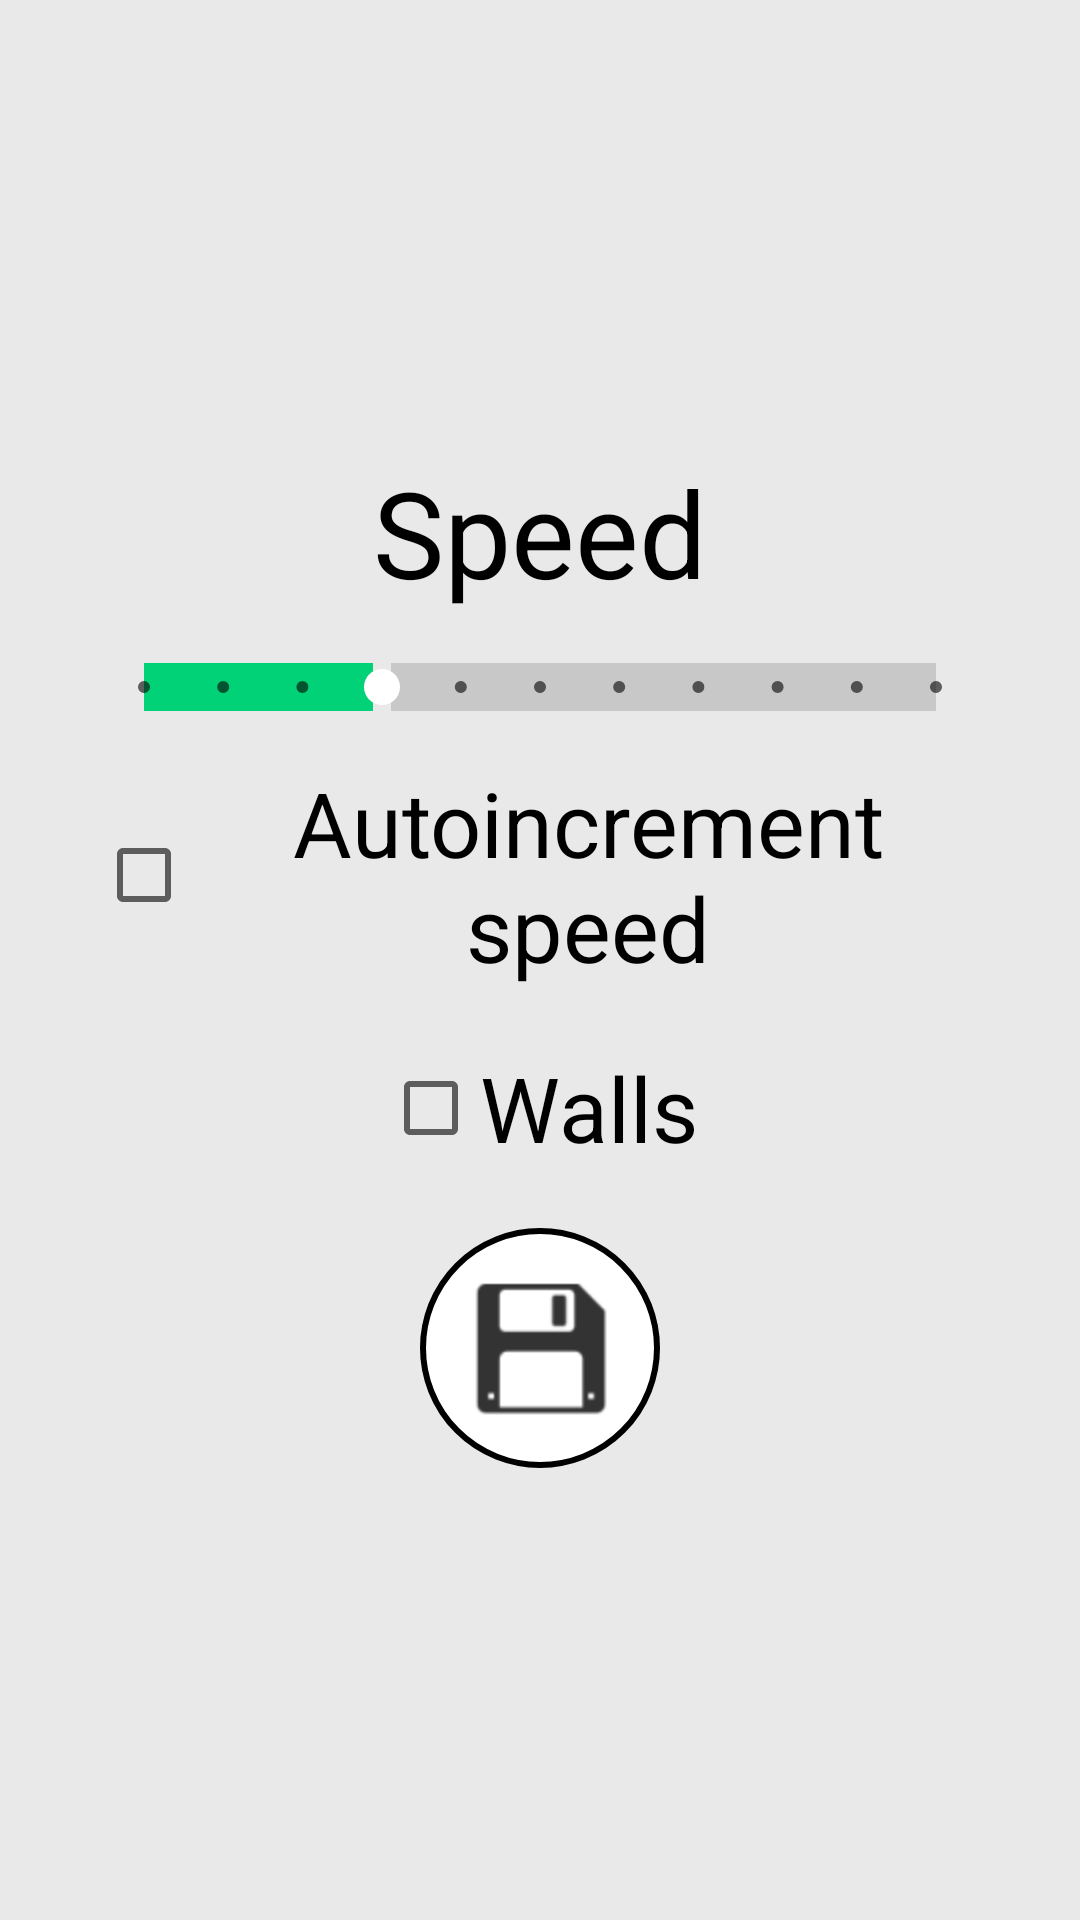

Icon bounding boxes for this 1080x1920 phone screenshot, format (x1, y1, x2, y2):
Save changes: (420, 1228, 660, 1468)
